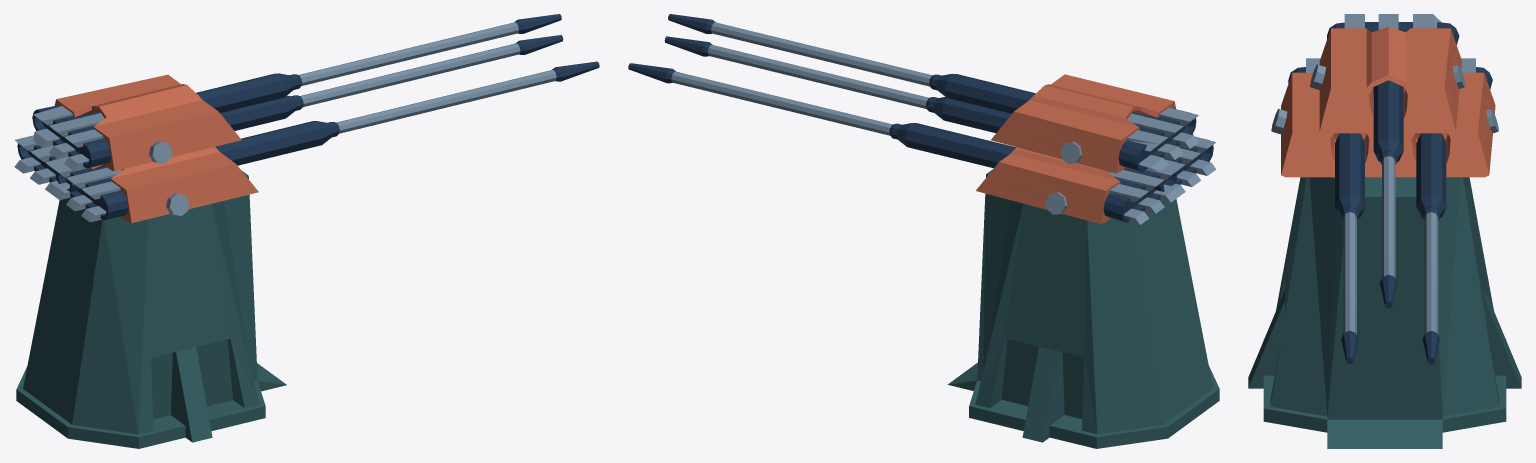
File: Cannon-RRRR-3.fbx
3 views of the same model, side by side, from view 1: azimuth 30°, elevation 25°; view 2: azimuth 150°, elevation 25°; view 3: azimuth 270°, elevation 25° (orthographic). The views are drawn at different scales.
Visible parts, largest first — view 1: russian4:base, russian4:attack; view 2: russian4:base, russian4:attack; view 3: russian4:base, russian4:attack.
Part boxes in pixels (box(x1,y1,x2,y2)): russian4:base: box(16, 170, 286, 448); russian4:attack: box(14, 14, 599, 223); russian4:base: box(947, 169, 1219, 448); russian4:attack: box(628, 14, 1216, 224); russian4:base: box(1248, 177, 1521, 448); russian4:attack: box(1271, 14, 1498, 364).
Size of the model in its own units: 2909 by 1533 by 1137.
